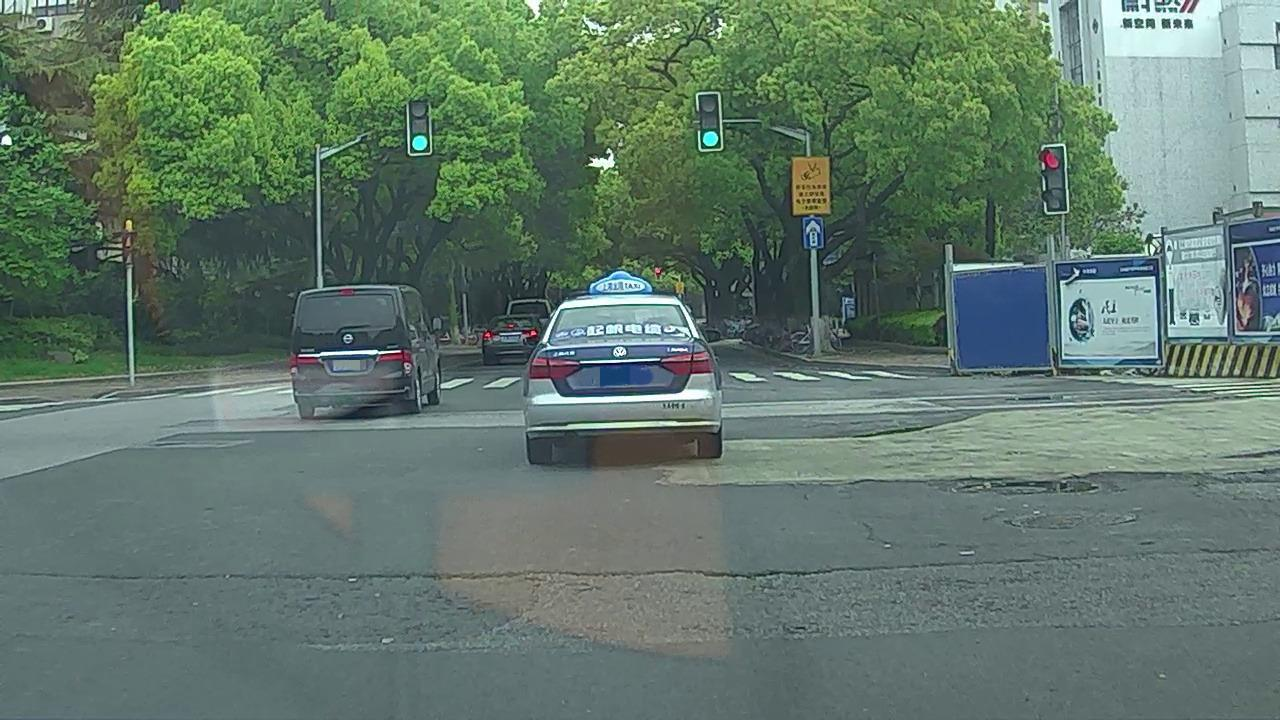traffic_light: (408, 93, 430, 156), (700, 94, 723, 151)
